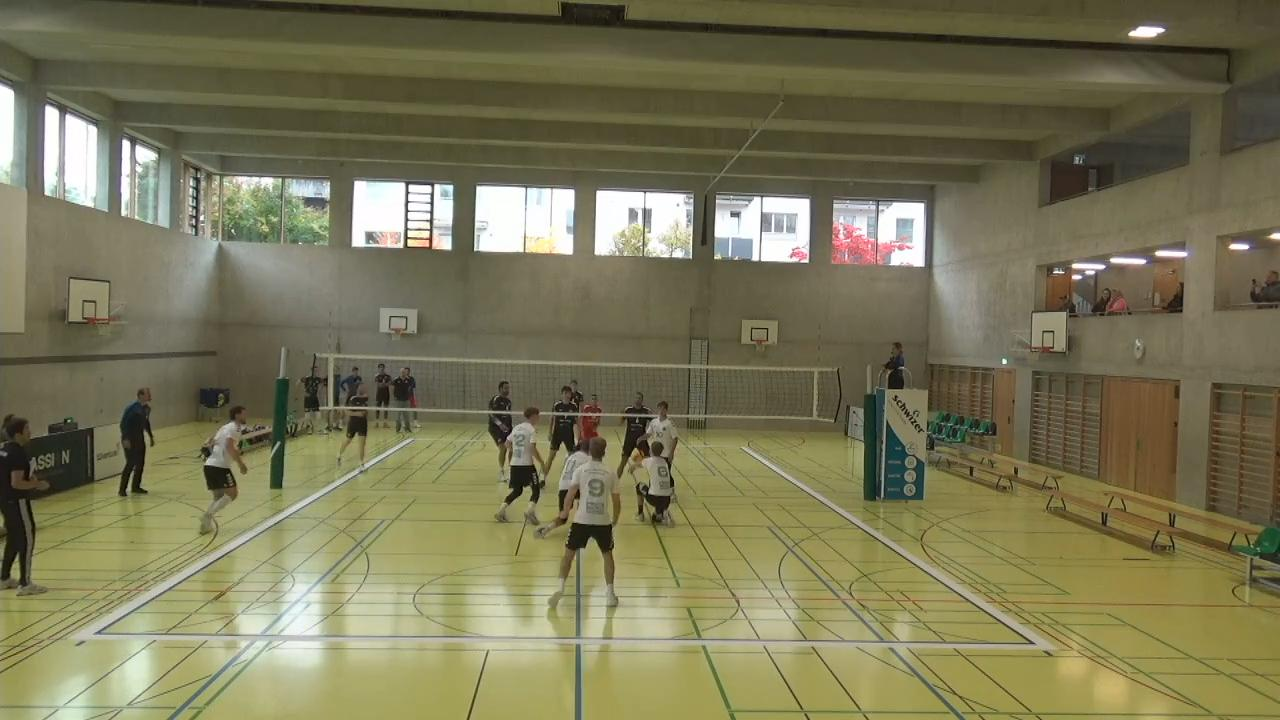Player: (543, 434, 621, 605), (196, 405, 255, 537), (496, 413, 550, 537), (335, 378, 371, 472), (651, 400, 680, 496), (544, 389, 576, 474), (484, 383, 515, 469), (621, 391, 651, 477), (574, 391, 603, 464), (563, 374, 585, 410)
Receive: (640, 438, 677, 529)
ball: (630, 446, 644, 467)
